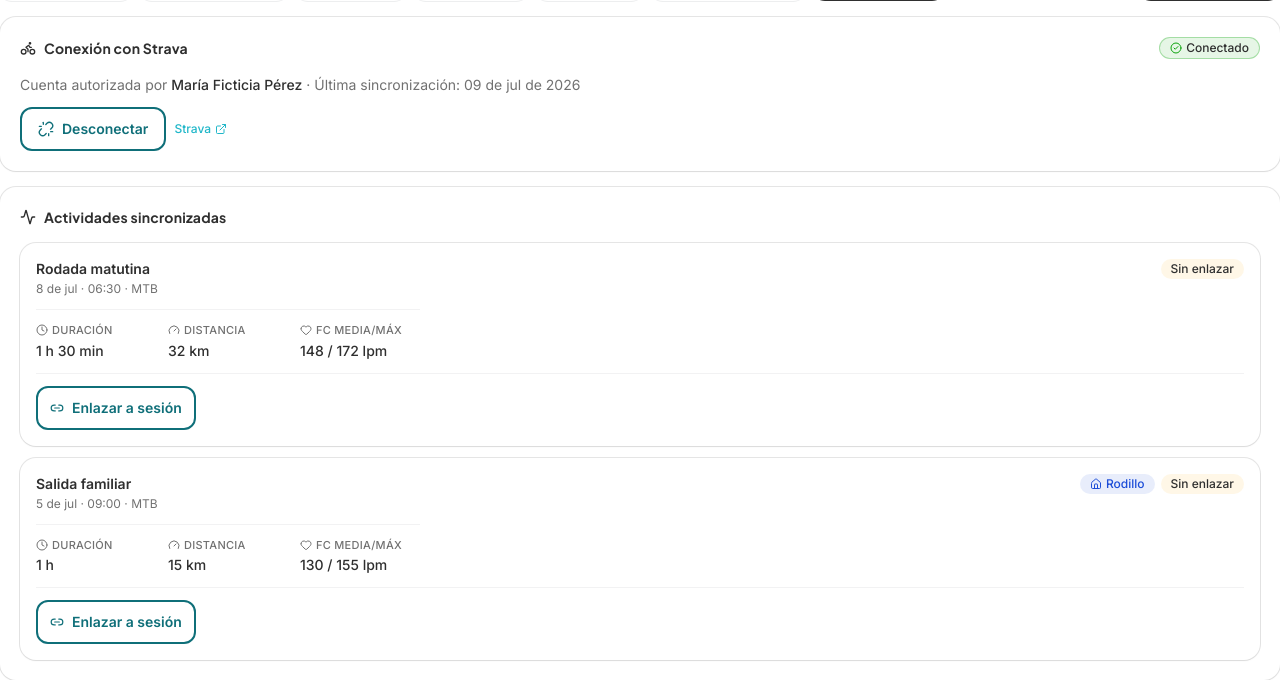
Test: AthleteDetailPage — tarjeta de conexión Strava › acción de enlace › hacer clic abre LinkSessionDialog para esa actividad
This screenshot has width=1280, height=680.
(page scrolled)
Click the button "Enlazar a sesión" below "1 h 30 min". click: (116, 408)
box: [36,386,196,430]
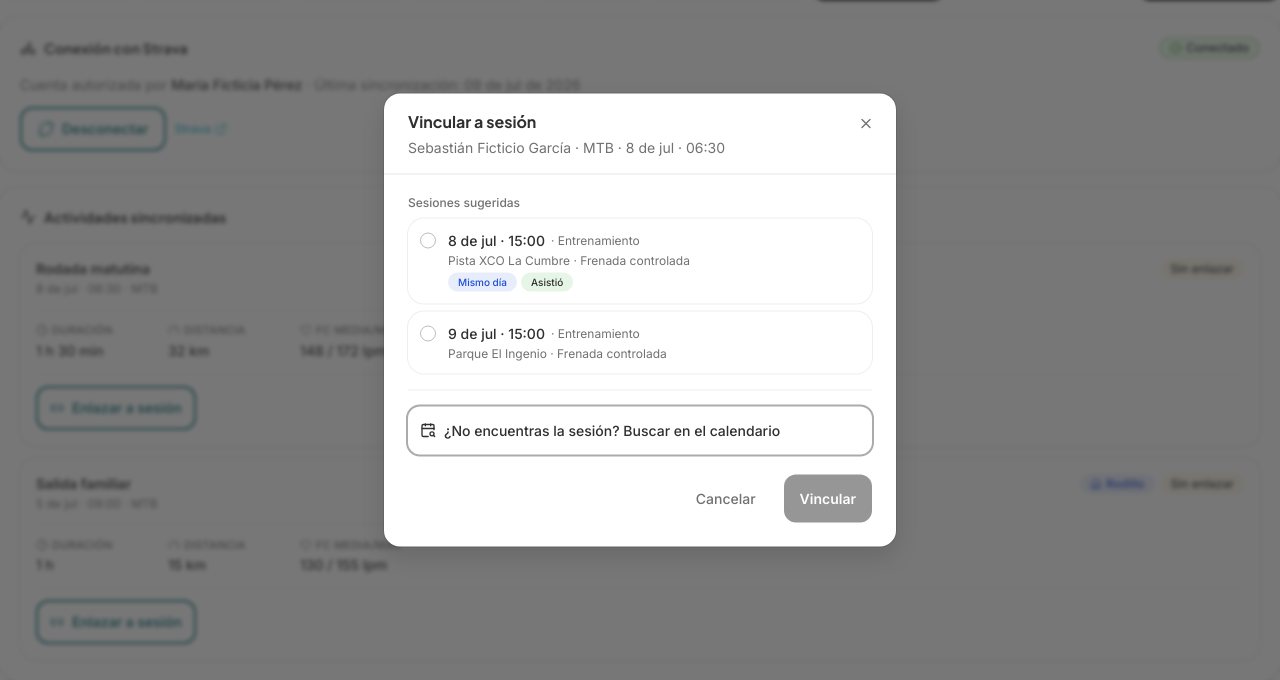
Check: the dialog is shown, box [384,94,896,546]
Check: the heading "Vincular a sesión" is shown, box [408,110,536,132]
